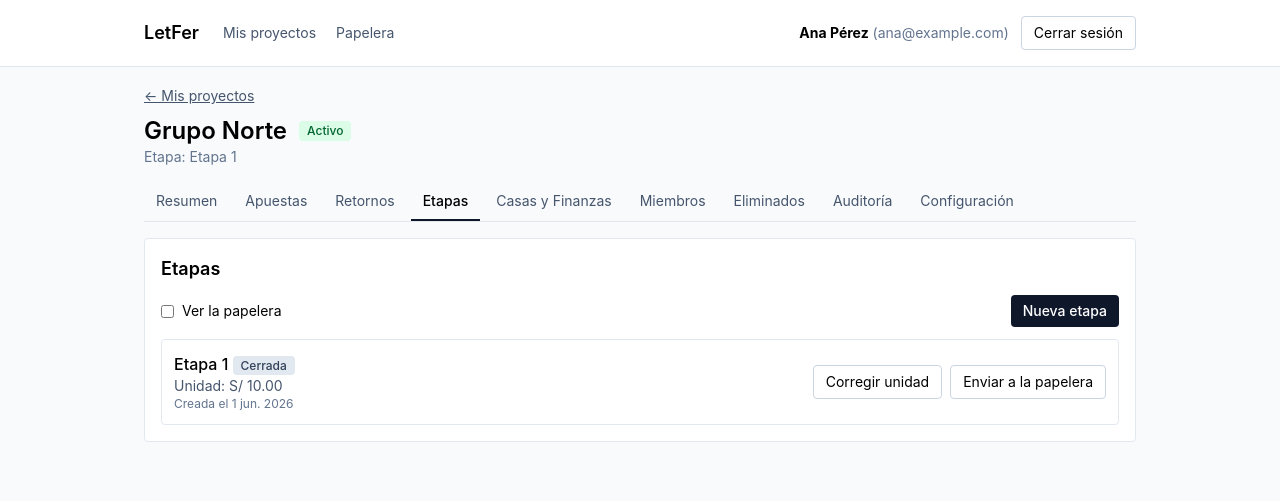
Test: etapas del proyecto (§11, §12, §86) › papelera › una etapa cerrada se puede enviar a la papelera con confirmación
Click the button "Enviar a la papelera" at (1028, 382), box [950,365,1106,399]
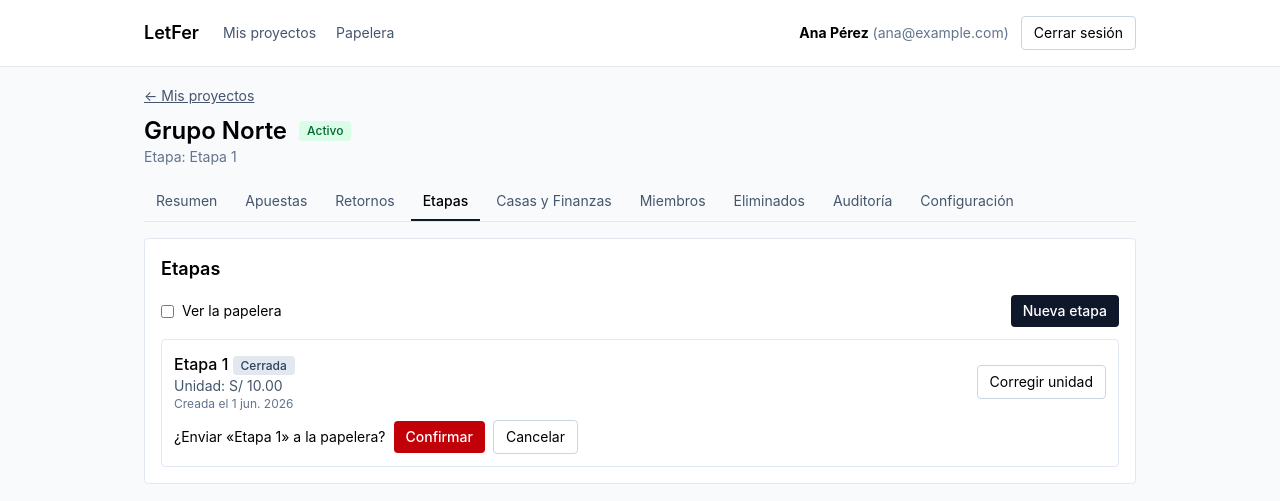
Click the button "Confirmar" at (439, 437), box [394,421,485,453]
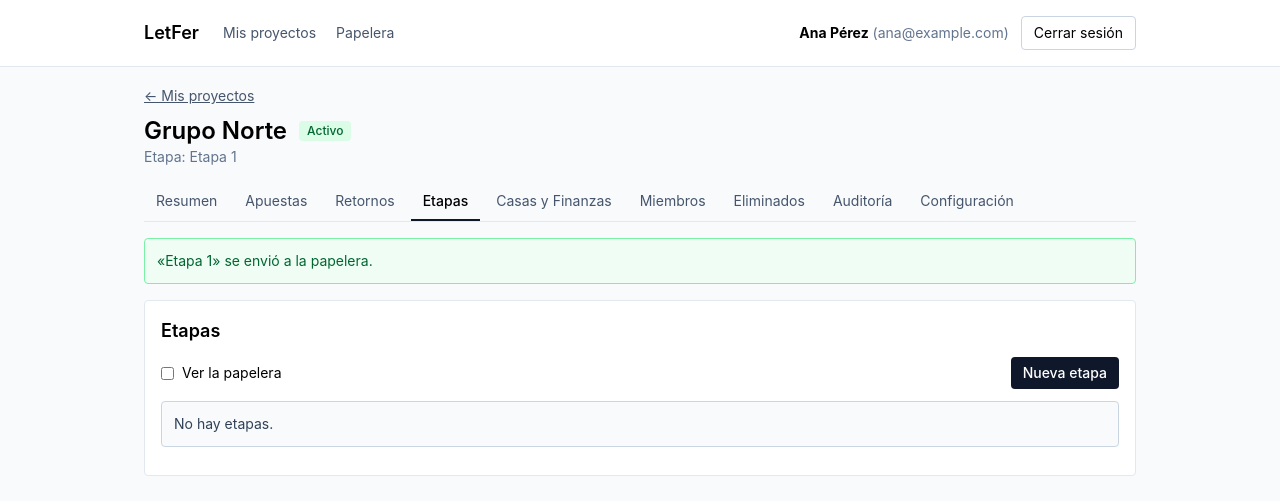
Expected: the text "«Etapa 1» se envió a la papelera." is shown, [144,238,1136,284]
